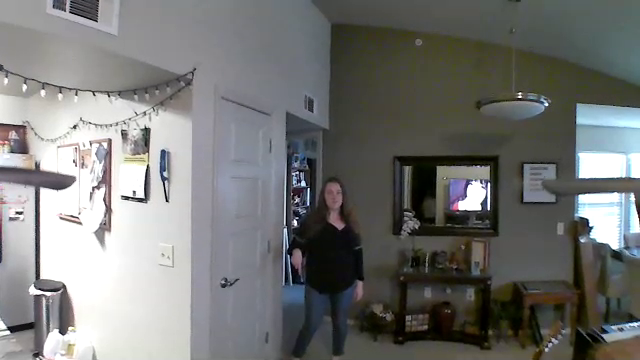down: (286, 244, 307, 280)
